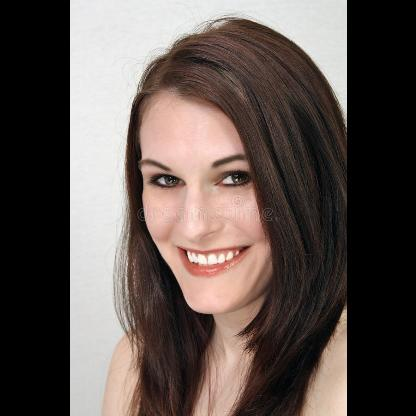Female: (138, 91, 278, 313)
